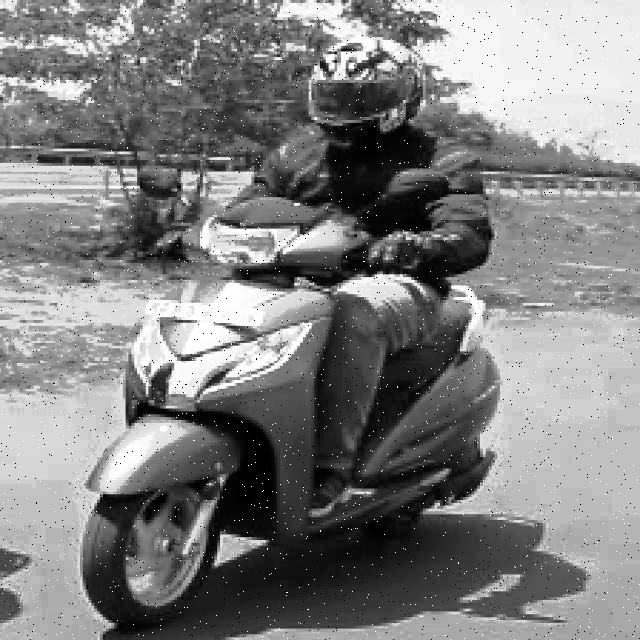Bike: (75, 195, 495, 633)
